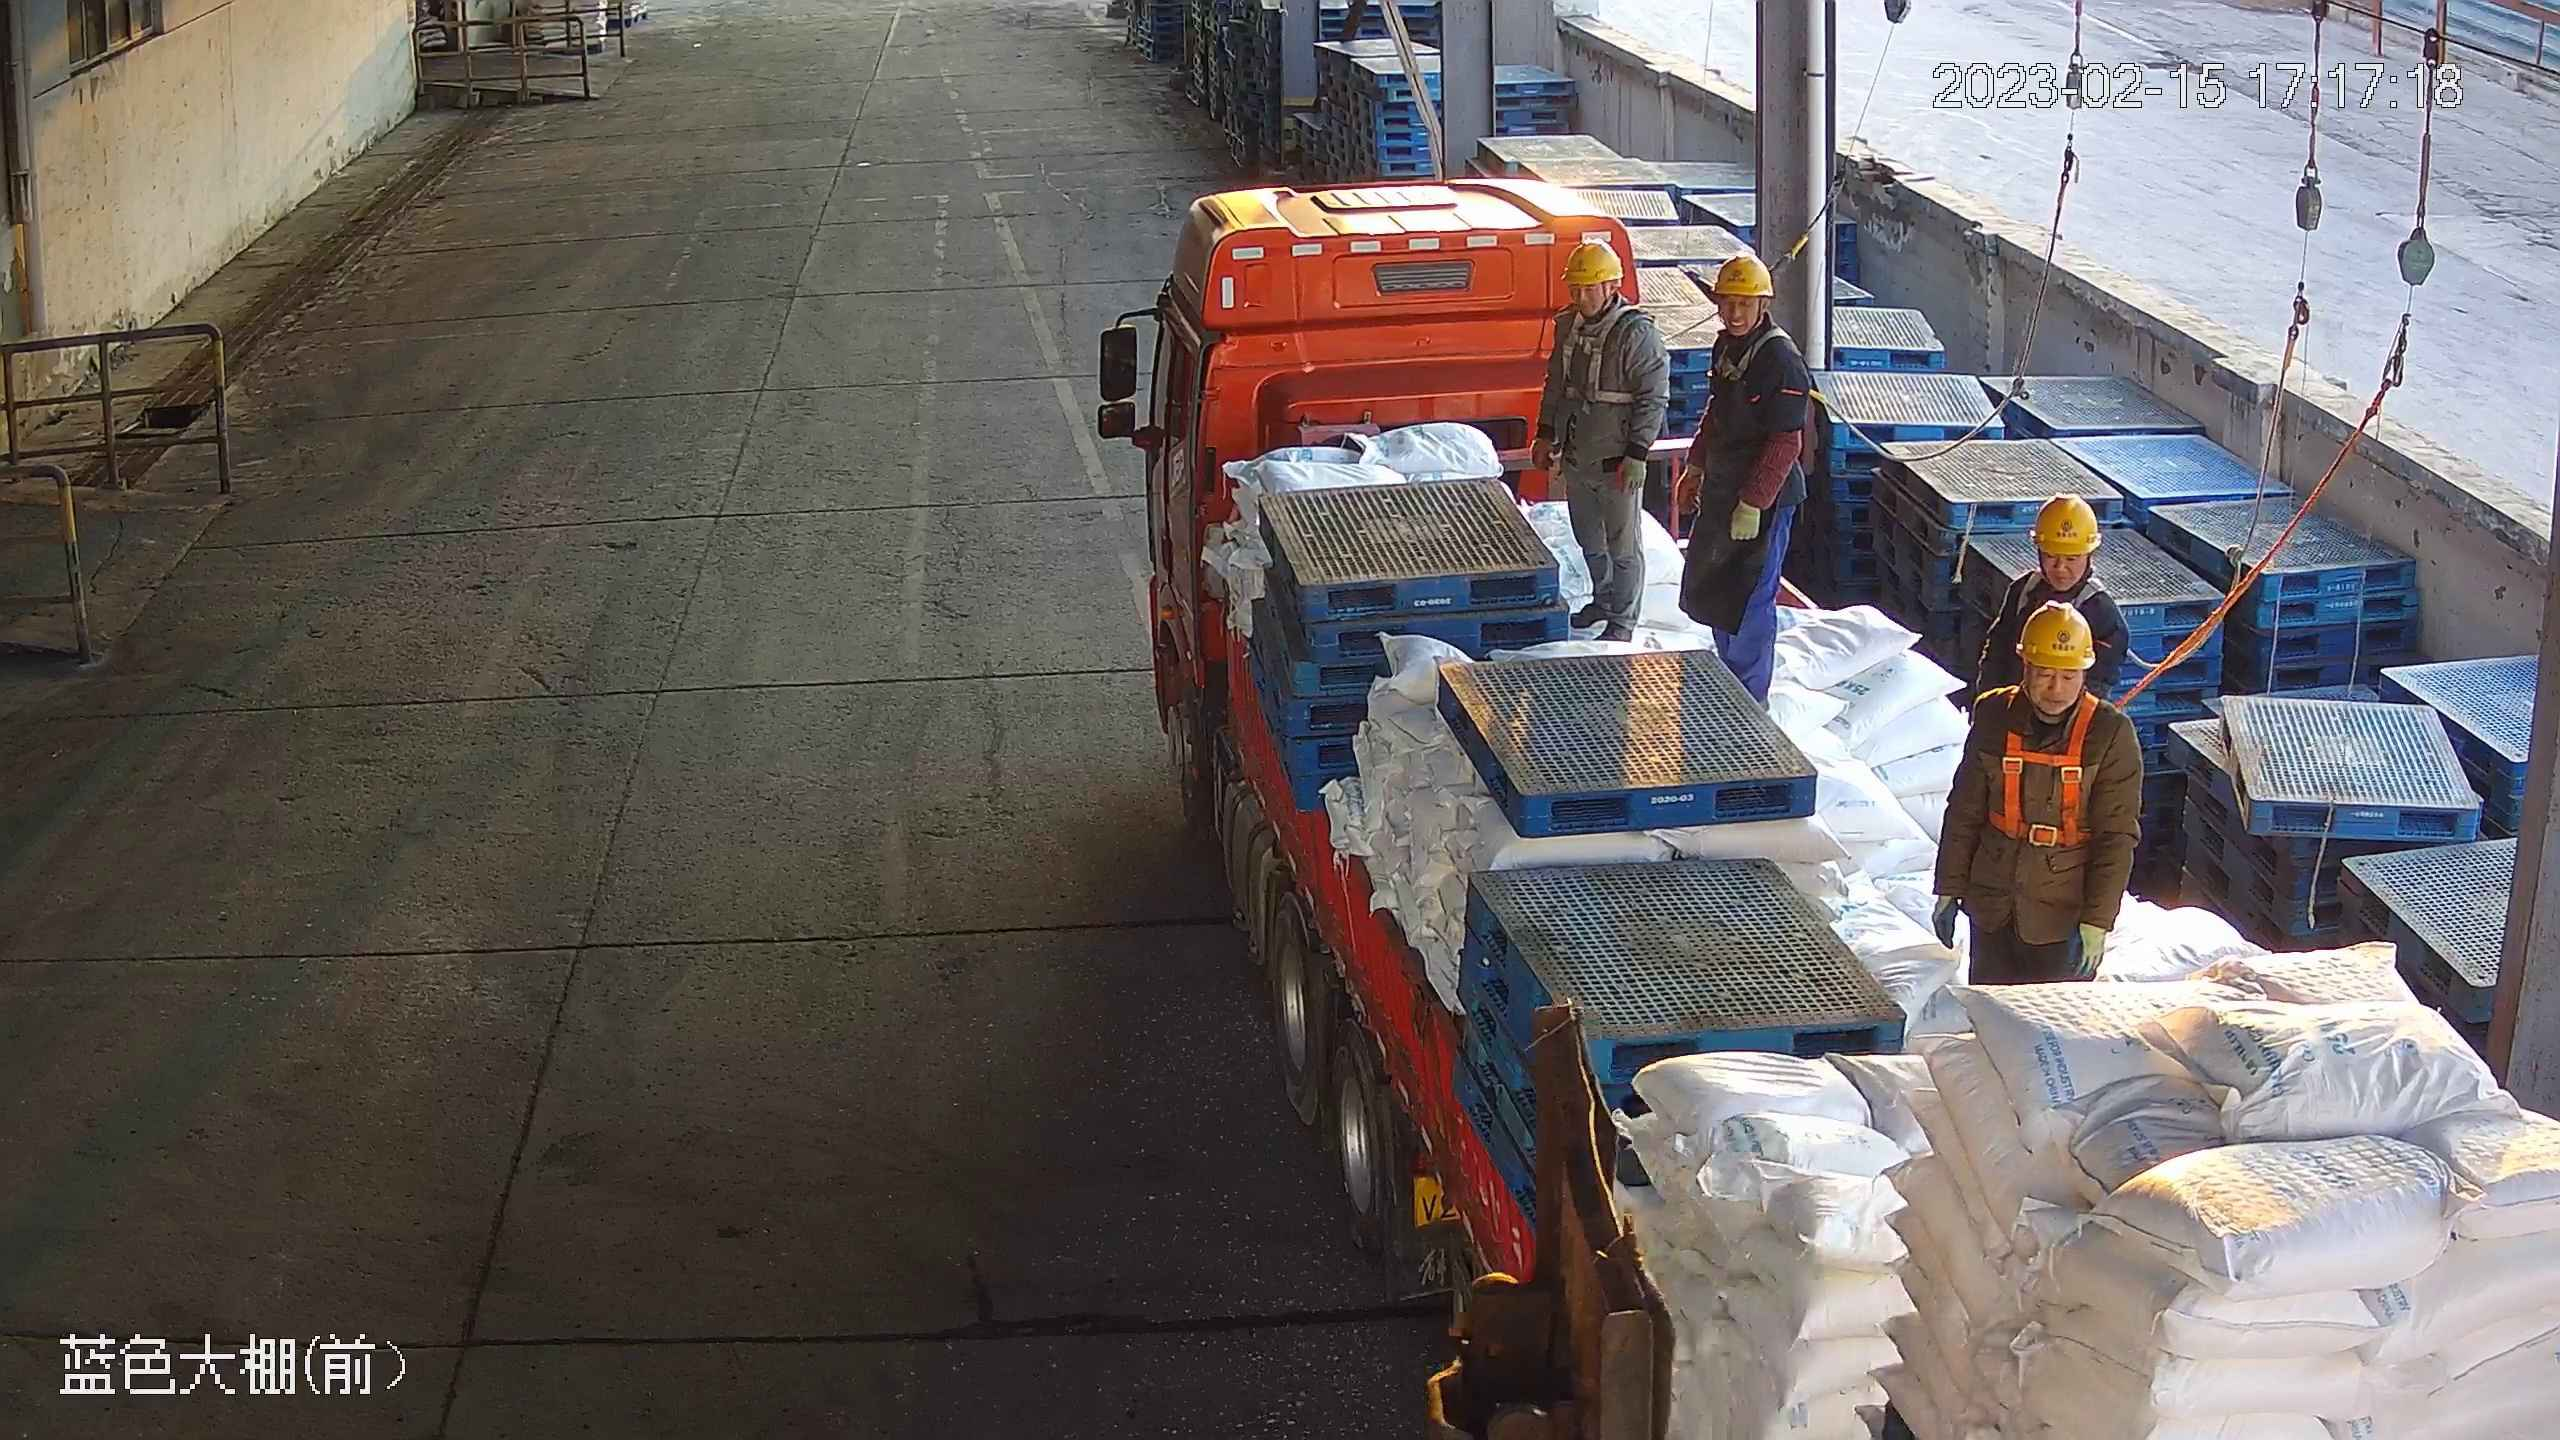belt: (1985, 692, 2101, 862), (1551, 301, 1649, 407), (1999, 560, 2125, 632), (1705, 325, 1805, 386)
head: (1966, 607, 2142, 760), (1985, 499, 2140, 612), (1686, 246, 1823, 368), (1549, 240, 1661, 364)
helmet: (2009, 597, 2105, 668), (2036, 492, 2112, 568), (1707, 251, 1779, 294), (1564, 240, 1629, 284)
people: (1935, 592, 2142, 1003), (1661, 256, 1827, 710), (1535, 234, 1664, 649)
truck: (1090, 164, 2560, 1440)
